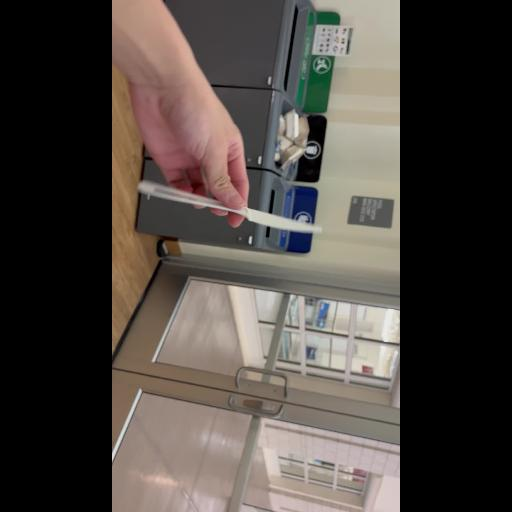utensil: (132, 160, 324, 280)
